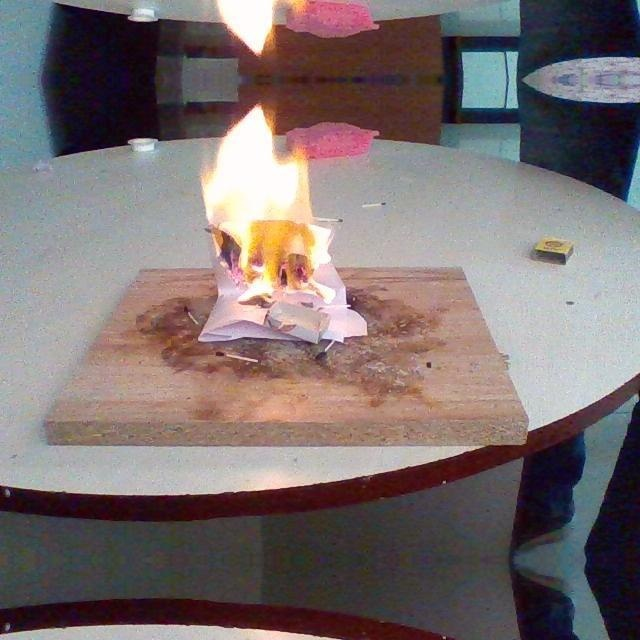fire: (177, 86, 382, 345)
